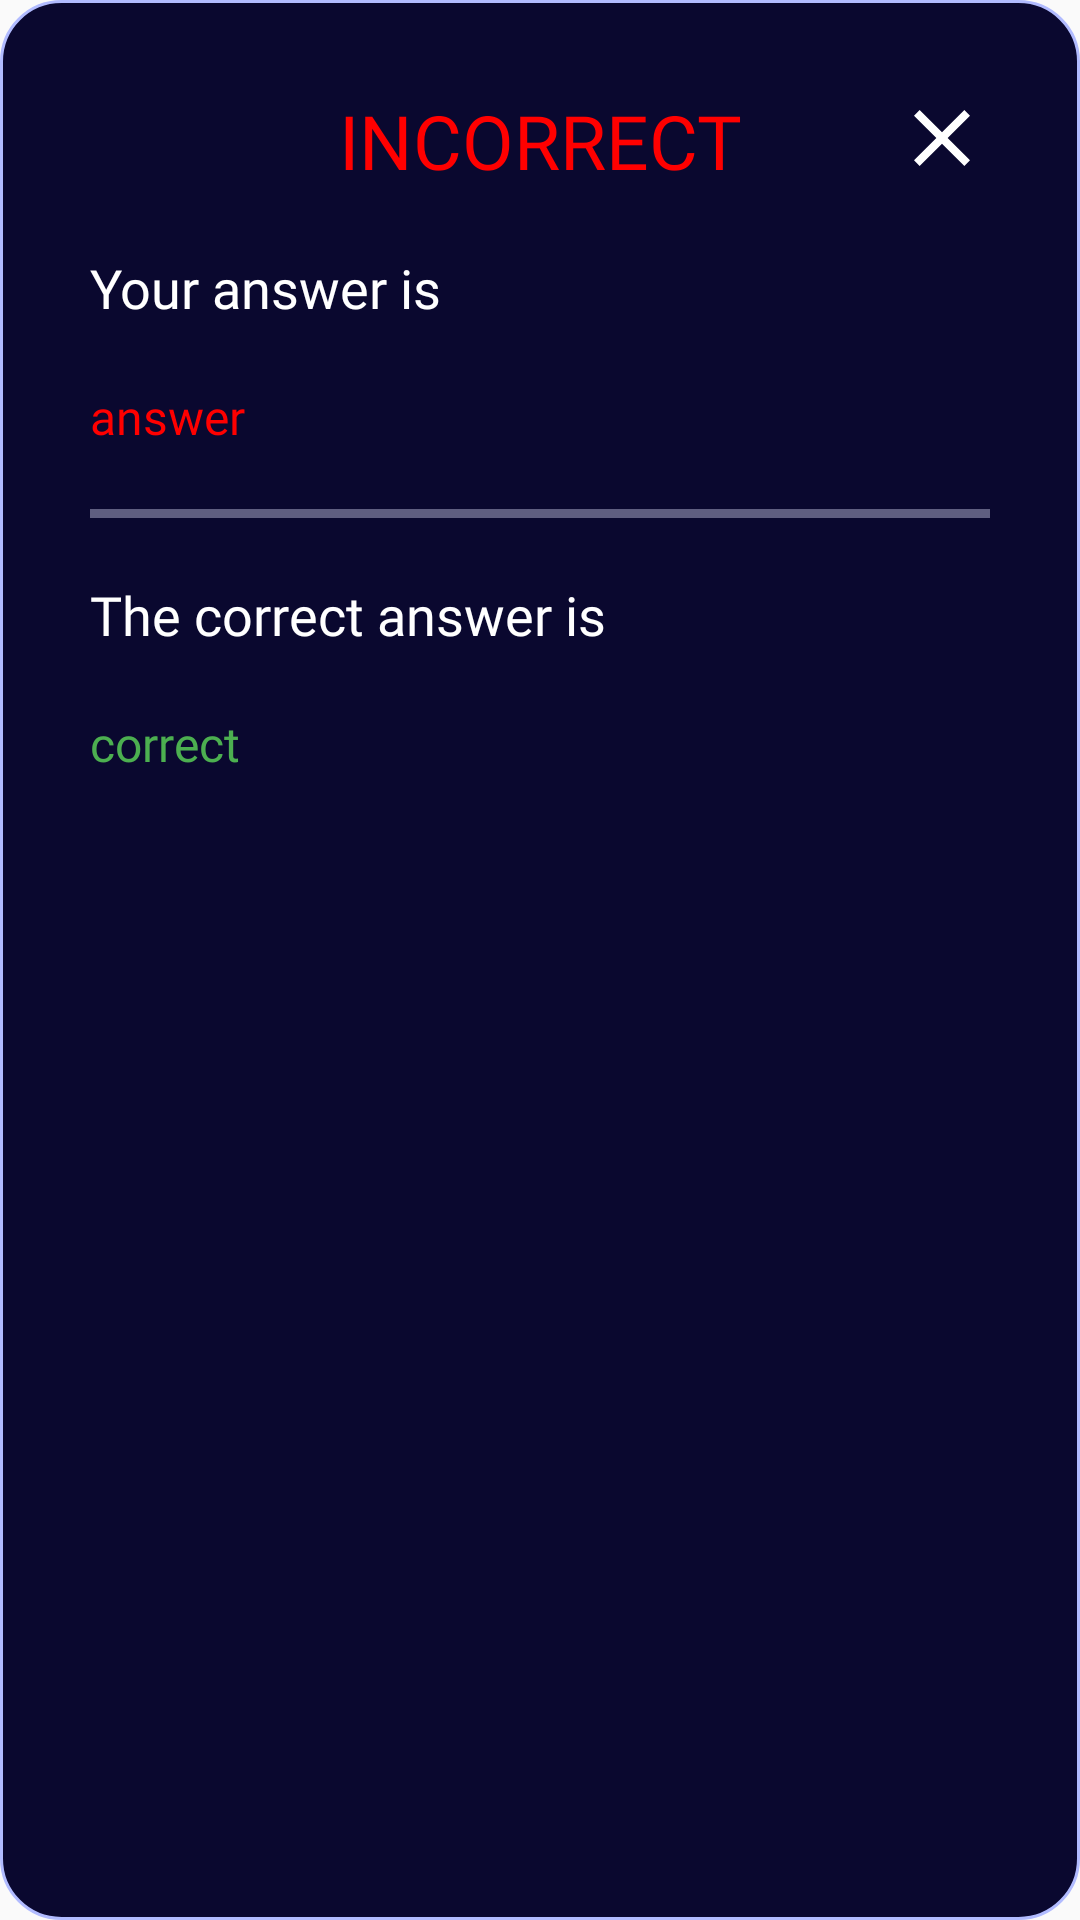

Screen size 1080x1920. Icon name, then its box in pixels as (x1, y1, x2, y2):
clear: (914, 110, 970, 166)
